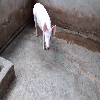heo: (31, 1, 57, 54)
